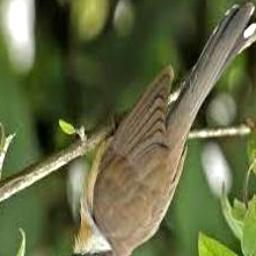Cuckoo: (57, 3, 256, 256)
